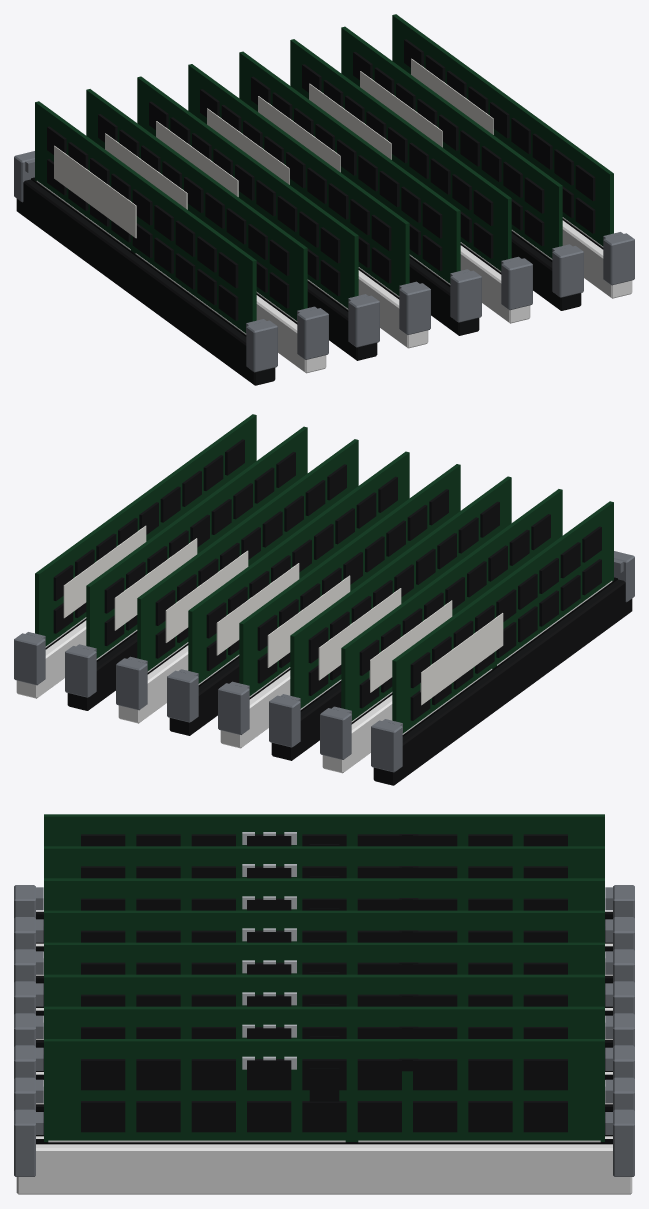
File: hwm_ram_ddr5_128gb.glb
3 renders of one model, top to bottom at view 1: azimuth 30°, elevation 25°; view 2: azimuth 150°, elevation 25°; view 3: azimuth 270°, elevation 25°, orthographic. The views are drawn at different scales.
Visible parts, largest first — view 1: Slots, Stick_0, Stick_7, Stick_2, Stick_6, Stick_3, Stick_5, Stick_4, Stick_1, Latch_5_1, Latch_0_1, Latch_1_1 (+6 smaller); view 2: Slots, Stick_0, Stick_7, Stick_2, Stick_6, Stick_3, Stick_5, Stick_4, Stick_1, Latch_5_0, Latch_0_0, Latch_1_0 (+6 smaller); view 3: Stick_7, Slots, Stick_0, Stick_1, Stick_2, Stick_3, Stick_4, Stick_5, Stick_6, Latch_7_0, Latch_7_1, Latch_1_0 (+13 smaller).
Boxes of the visible parts, <box> form: Slots: <box>16,177,632,385</box>; Stick_0: <box>35,101,256,334</box>; Stick_7: <box>392,14,613,247</box>; Stick_2: <box>137,76,358,309</box>; Stick_6: <box>341,26,562,259</box>; Stick_3: <box>188,64,409,297</box>; Stick_5: <box>290,39,511,272</box>; Stick_4: <box>239,51,460,284</box>; Stick_1: <box>86,89,307,322</box>; Latch_5_1: <box>501,256,532,310</box>; Latch_0_1: <box>246,319,277,372</box>; Latch_1_1: <box>297,306,328,359</box>; Slots: <box>16,577,632,785</box>; Stick_0: <box>392,501,613,734</box>; Stick_7: <box>35,414,256,647</box>; Stick_2: <box>290,476,511,709</box>; Stick_6: <box>86,426,307,659</box>; Stick_3: <box>239,464,460,697</box>; Stick_5: <box>137,439,358,672</box>; Stick_4: <box>188,451,409,684</box>; Stick_1: <box>341,489,562,722</box>; Latch_5_0: <box>116,656,147,710</box>; Latch_0_0: <box>371,719,402,772</box>; Latch_1_0: <box>320,706,351,759</box>; Stick_7: <box>44,1039,604,1142</box>; Slots: <box>16,911,632,1194</box>; Stick_0: <box>44,814,604,846</box>; Stick_1: <box>44,846,604,878</box>; Stick_2: <box>44,878,604,910</box>; Stick_3: <box>44,910,604,942</box>; Stick_4: <box>44,942,604,974</box>; Stick_5: <box>44,974,604,1006</box>; Stick_6: <box>44,1006,604,1038</box>; Latch_7_0: <box>605,1109,634,1176</box>; Latch_7_1: <box>14,1109,43,1176</box>; Latch_1_0: <box>605,917,634,950</box>.
Bounding box in the file's own units: 0.1346 × 0.0389 × 0.1472.
